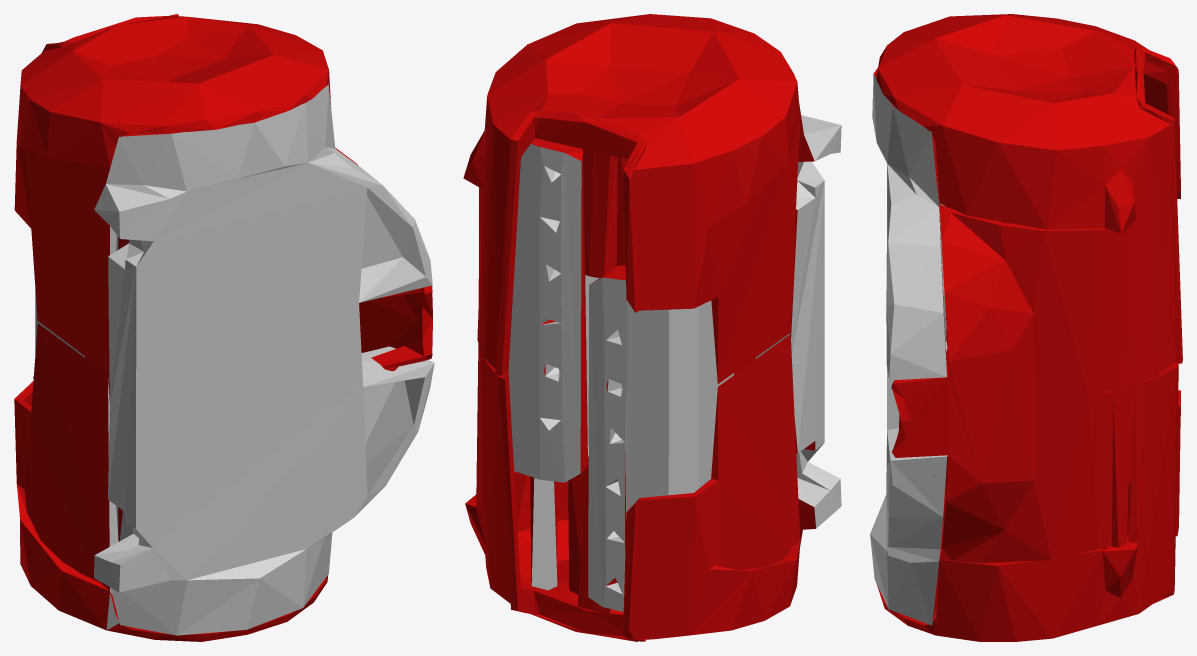
File: electric_gripper_base_decimate.dae
3 renders of one model, left to right at view 1: azimuth 30°, elevation 25°; view 2: azimuth 150°, elevation 25°; view 3: azimuth 270°, elevation 25°, orthographic.
Parts seen in each view (by area): view 1: _0031555; view 2: _0031555; view 3: _0031555.
Boxes of the visible parts, box(x1,y1,x2,y2) form: _0031555: box(14, 14, 434, 641); _0031555: box(463, 14, 841, 641); _0031555: box(870, 14, 1182, 641).
Size of the model in its own units: 0.0663 by 0.0539 by 0.1056.
